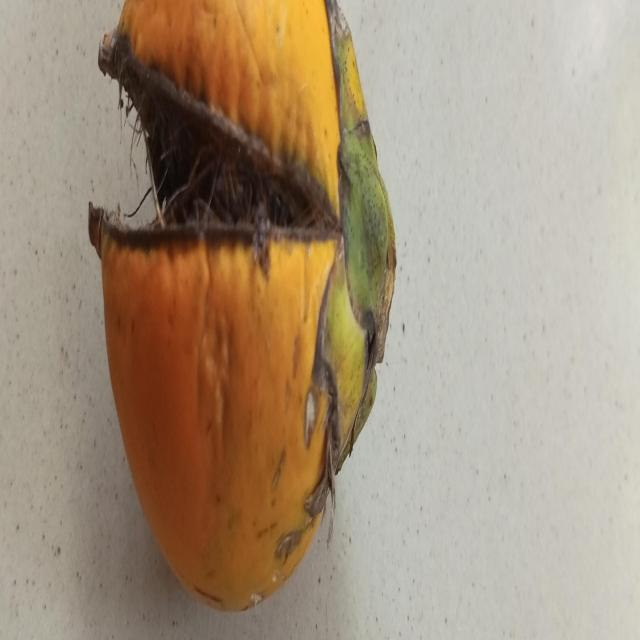damaged: (88, 0, 396, 609)
